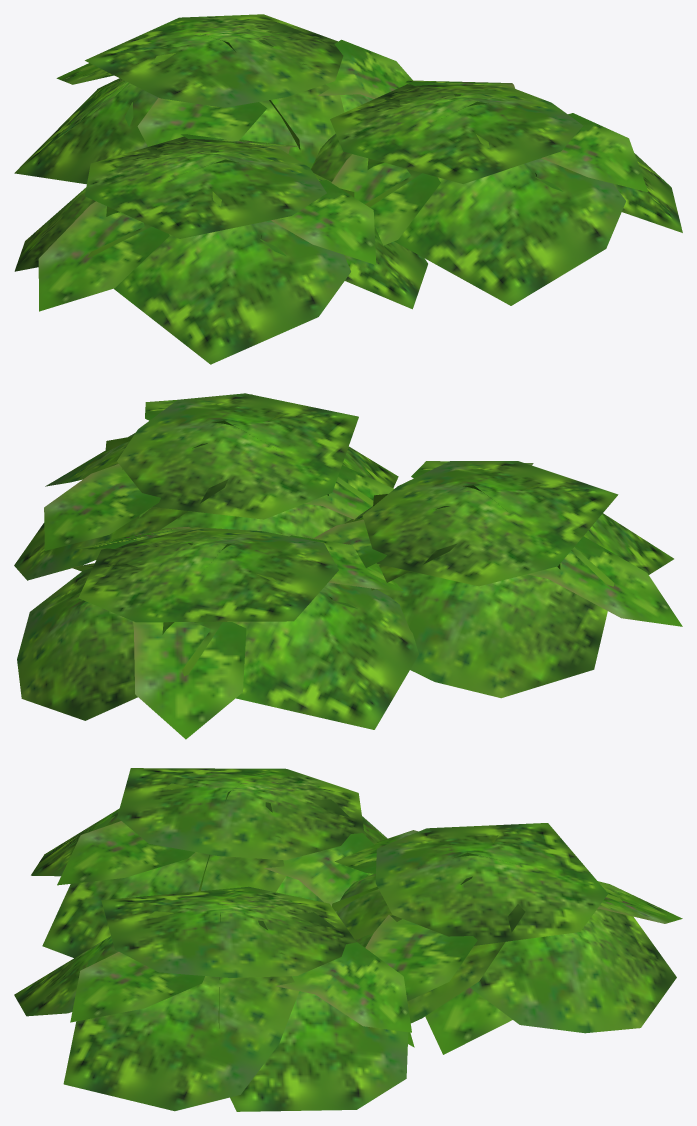
Rendered from Nature_bush01_L.fbx.
3 renders of one model, top to bottom at view 1: azimuth 30°, elevation 25°; view 2: azimuth 150°, elevation 25°; view 3: azimuth 270°, elevation 25°, orthographic. The views are drawn at different scales.
Visible parts, largest first — view 1: bush01_L; view 2: bush01_L; view 3: bush01_L.
Part boxes in pixels (x1,y1,x2,y2): bush01_L: [14, 14, 682, 364]; bush01_L: [14, 393, 682, 739]; bush01_L: [14, 768, 682, 1111].
Size of the model in its own units: 3.18 by 0.6232 by 2.97.
Materials: 1 (1 with a texture image).
